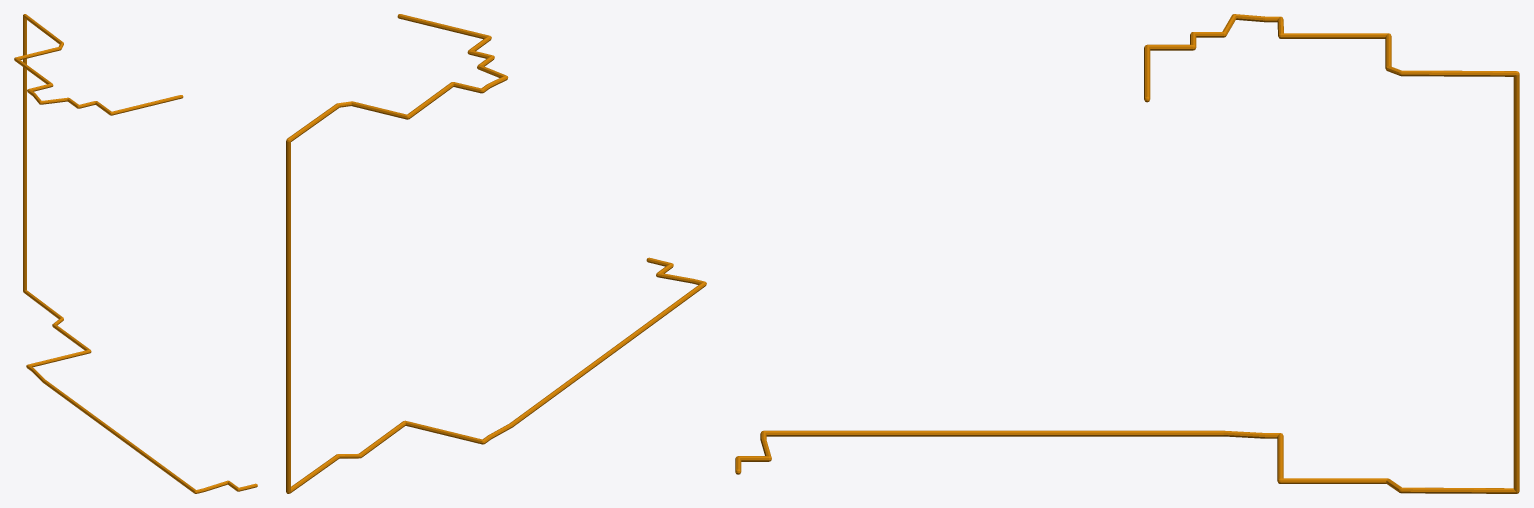
3 views of the same model, side by side, from view 1: azimuth 30°, elevation 25°; view 2: azimuth 150°, elevation 25°; view 3: azimuth 270°, elevation 25° (orthographic). The views are drawn at different scales.
Size of the model in its own units: 660 by 1520 by 2557.
